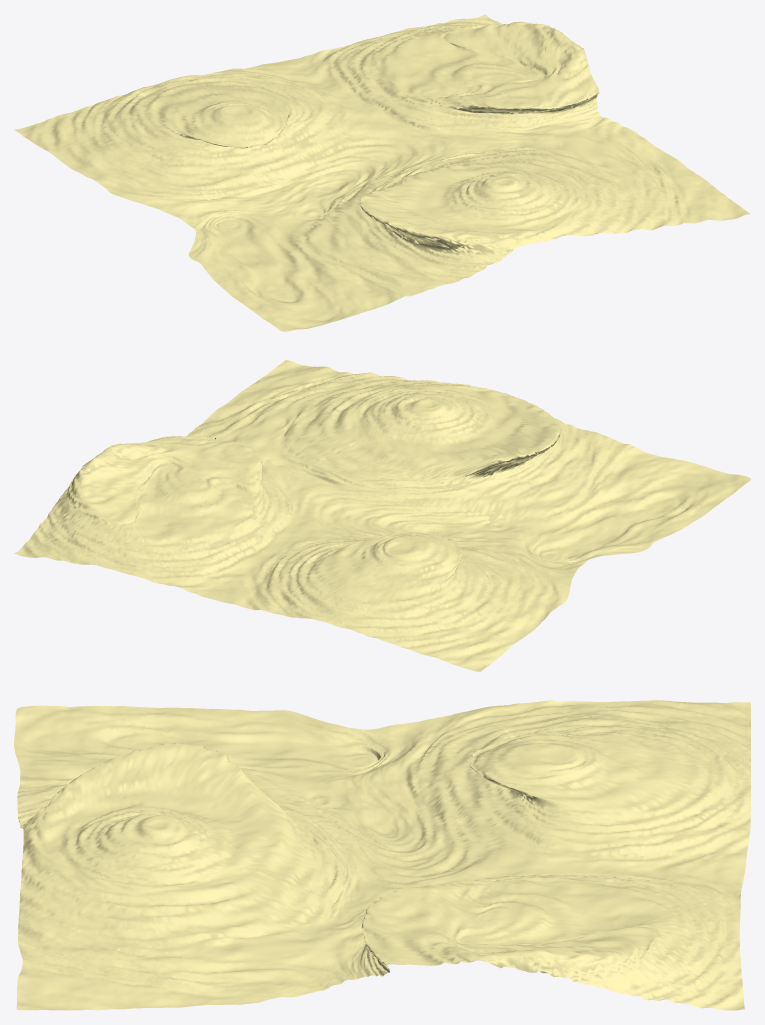
The model's file is TestTerrain2.fbx.
3 views of the same model, one above another, from view 1: azimuth 30°, elevation 25°; view 2: azimuth 150°, elevation 25°; view 3: azimuth 270°, elevation 25° (orthographic). The views are drawn at different scales.
Visible parts, largest first — view 1: Plane; view 2: Plane; view 3: Plane.
Part boxes in pixels (x1,y1,x2,y2): Plane: (14, 14, 750, 331); Plane: (14, 360, 750, 671); Plane: (14, 700, 750, 1010).
Bounding box in the file's own units: 35397 × 3752 × 34895.
